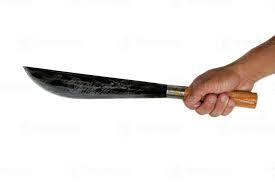Knife: (22, 65, 257, 109)
